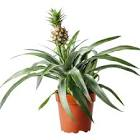Pineapple: (46, 8, 70, 45)
